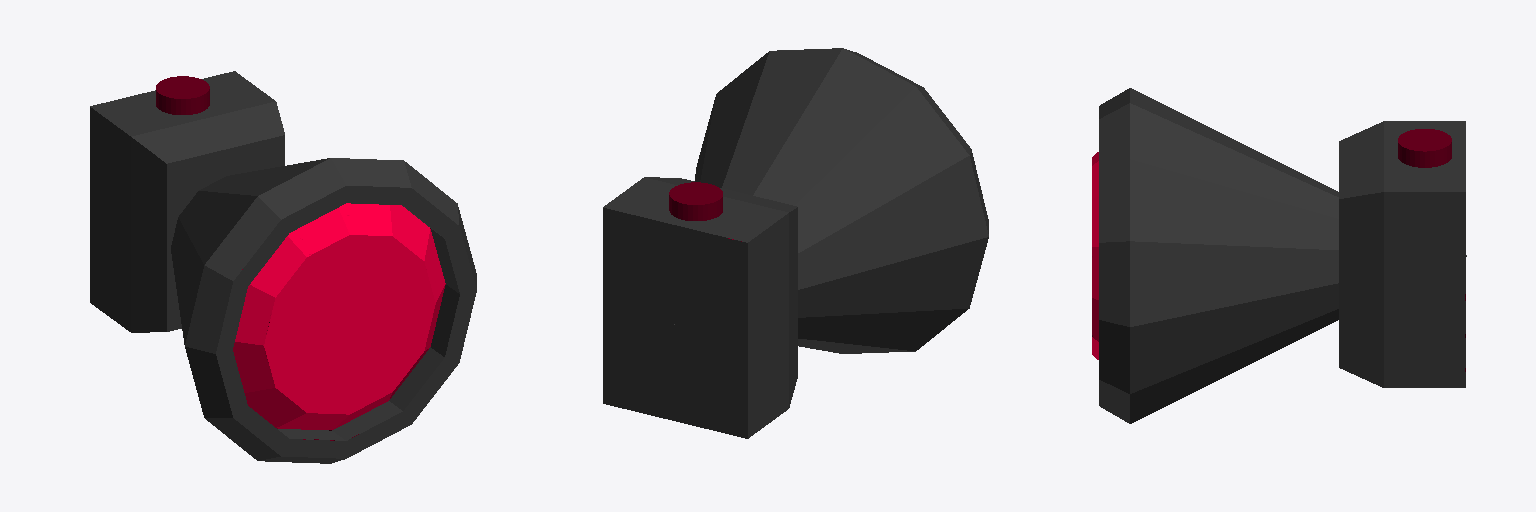
3 renders of one model, left to right at view 1: azimuth 30°, elevation 25°; view 2: azimuth 150°, elevation 25°; view 3: azimuth 270°, elevation 25°, orthographic.
Visible parts, largest first — view 1: E_Camera_R; view 2: E_Camera_R; view 3: E_Camera_R.
Boxes of the visible parts, x1=… form: E_Camera_R: x1=90, y1=71, x2=476, y2=463; E_Camera_R: x1=603, y1=48, x2=988, y2=438; E_Camera_R: x1=1092, y1=88, x2=1466, y2=423.
Size of the model in its own units: 0.5811 by 0.5811 by 0.6463.
1 materials, 1 textured.